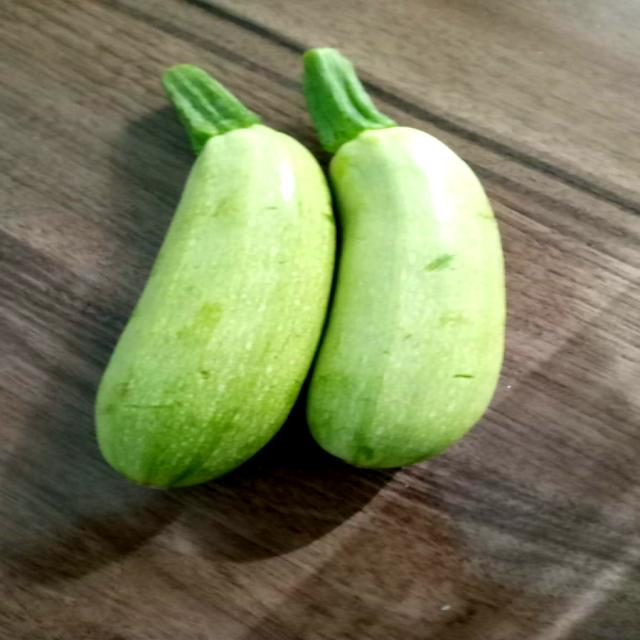zucchini: (75, 44, 350, 496), (268, 38, 524, 473)
